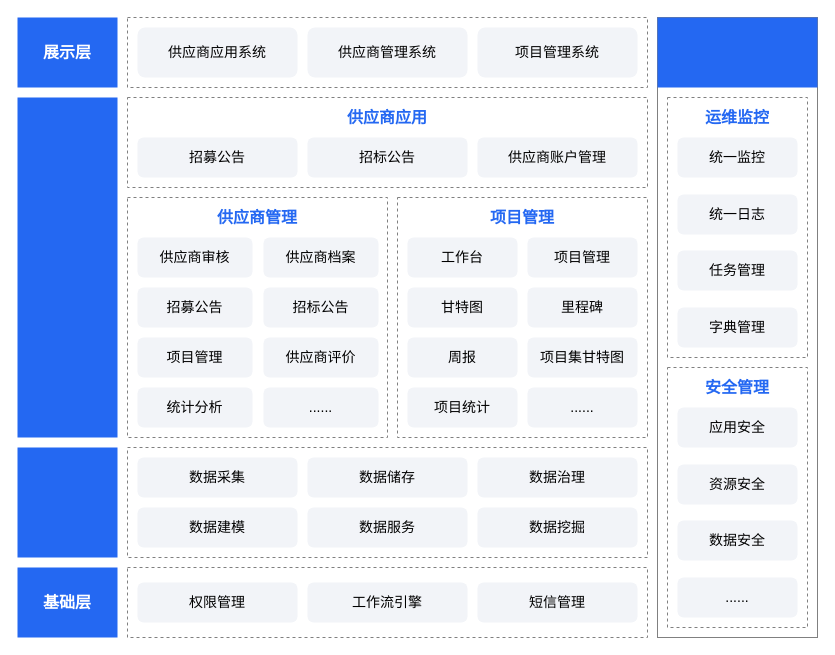
Image size: 835x655. Some labels were removed from this diagram. Each missing label, with the centre of its shape:
"应用层" belongs at point 67,267.
"数据层" belongs at point 67,502.
"运维安全" belongs at point 737,52.
